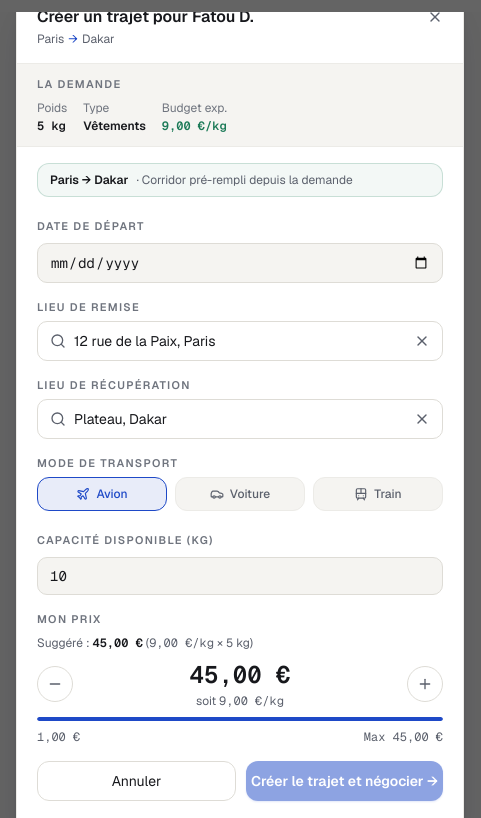
Test case: CreateTripFromDemandModal › affiche le message du serveur quand la création du trajet est refusée
The image size is (481, 818).
Type "2026-06-20" into the date field with test id "create-trip-date" at (240, 263), box [37, 243, 443, 283]
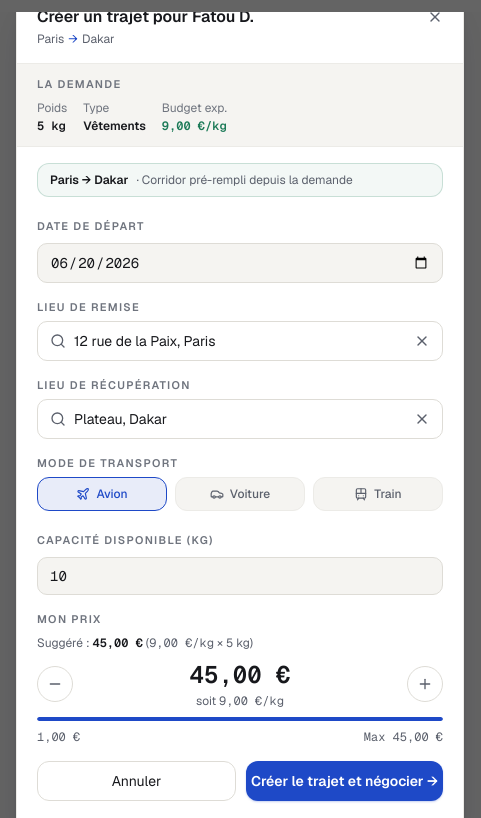
Click the button with test id "create-trip-submit" at (344, 781), box [246, 761, 443, 801]
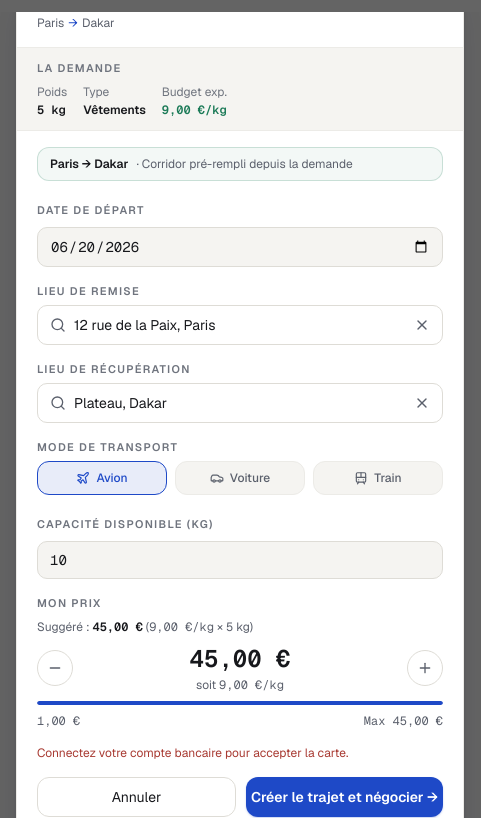
expect the text "Connectez votre compte bancaire pour accepter la carte." is shown: met, box [37, 745, 348, 761]
